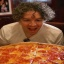pizza: (1, 43, 64, 64)
